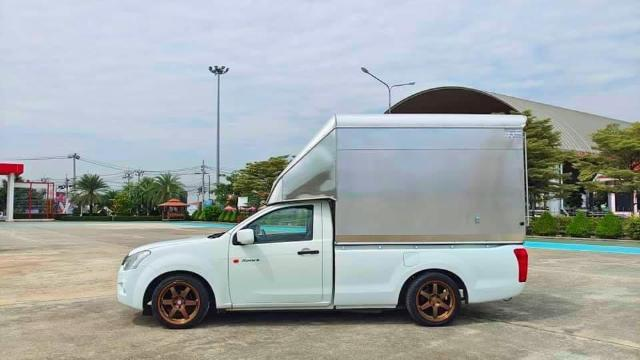pickup-truck: (105, 99, 542, 333)
